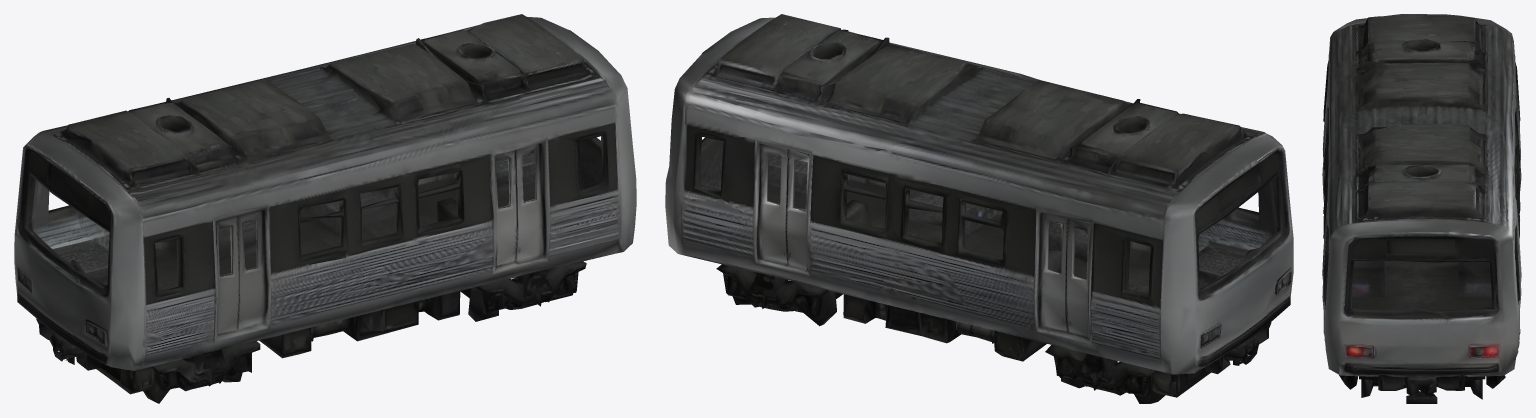
Rendered from train_car.glb.
3 renders of one model, left to right at view 1: azimuth 30°, elevation 25°; view 2: azimuth 150°, elevation 25°; view 3: azimuth 270°, elevation 25°, orthographic. The views are drawn at different scales.
Parts seen in each view (by area): view 1: train_car; view 2: train_car; view 3: train_car.
Boxes of the visible parts, x1,y1,x2,y2 form: train_car: (14,14,636,403); train_car: (665,14,1293,403); train_car: (1322,14,1521,403).
Size of the model in its own units: 7 by 3 by 2.6.
1 material, 1 textured.
